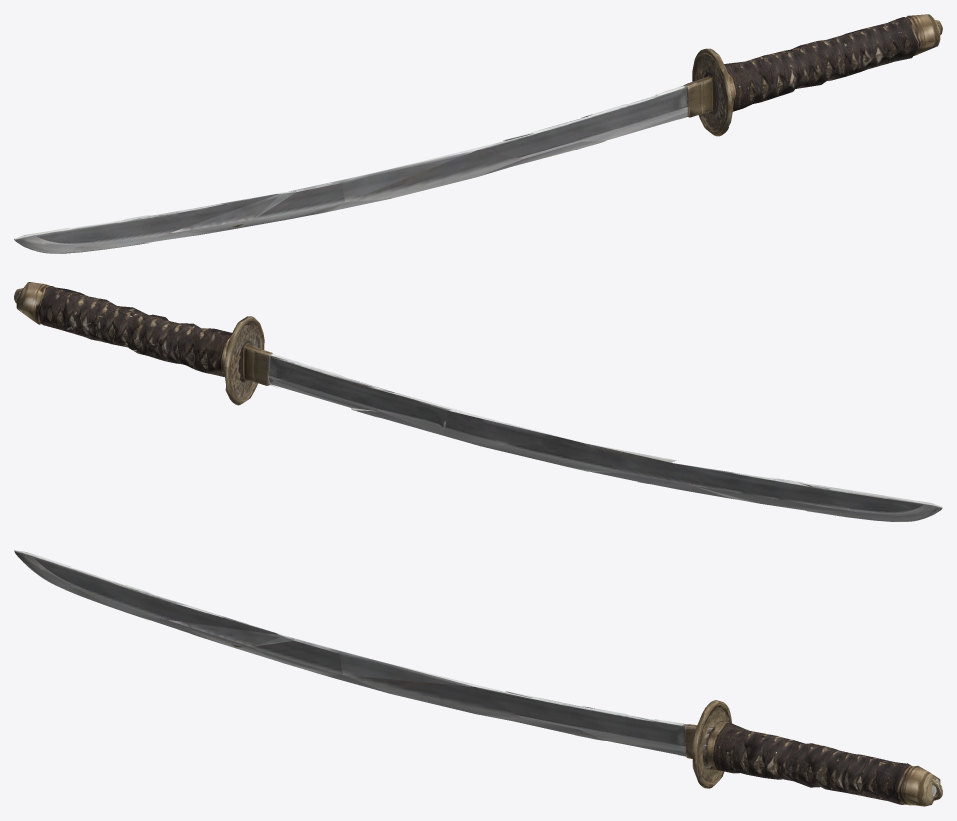
Rendered from weapon_hwando_lod1.glb.
The picture shows the model from 3 angles, top to bottom: view 1: azimuth 30°, elevation 25°; view 2: azimuth 150°, elevation 25°; view 3: azimuth 330°, elevation 25°; orthographic projection.
Visible parts, largest first — view 1: Mesh_0; view 2: Mesh_0; view 3: Mesh_0.
Part boxes in pixels (box(x1,y1,x2,y2)): Mesh_0: box(14, 14, 942, 253); Mesh_0: box(14, 282, 942, 521); Mesh_0: box(14, 550, 942, 806).
Size of the model in its own units: 1.9 by 0.1645 by 0.132.
1 material, 1 textured.
